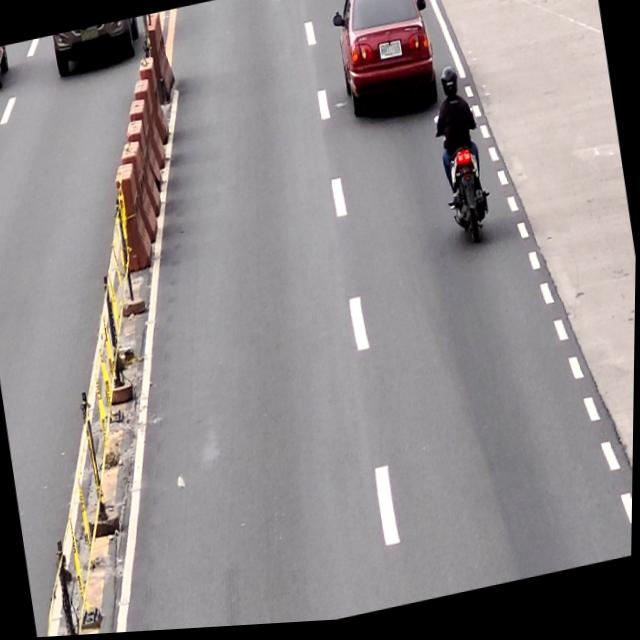Car: (327, 0, 442, 125)
License-Plate: (380, 45, 403, 64)
Motorcycle: (432, 110, 497, 253)
